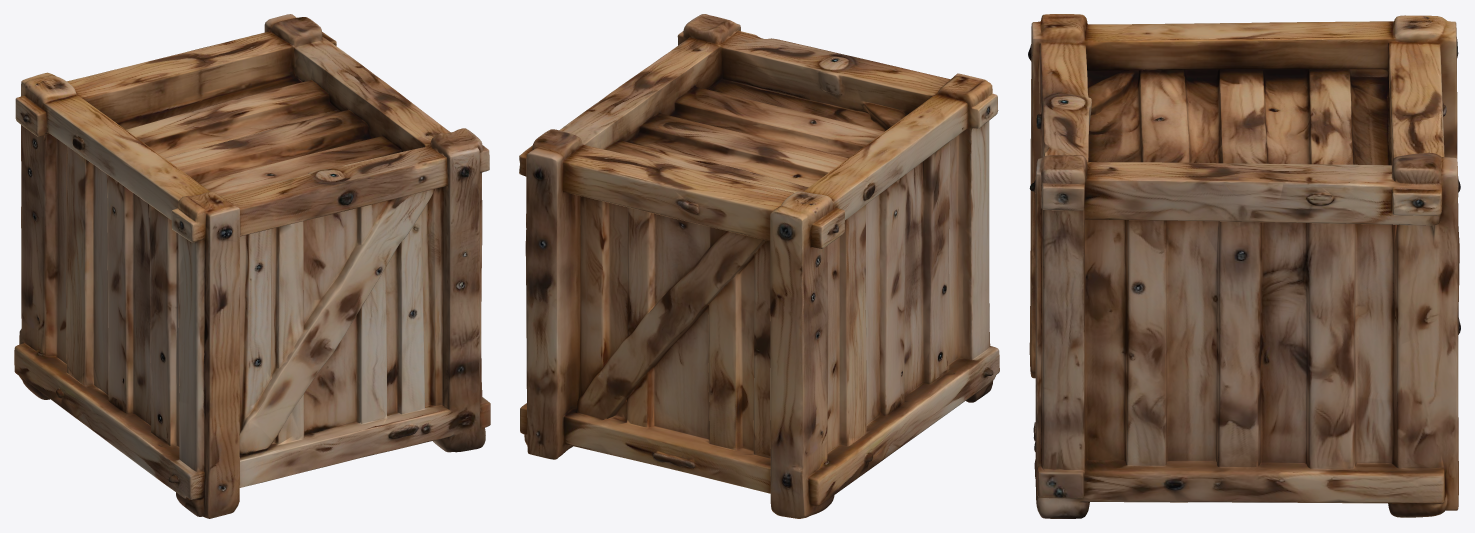
Rendered from prop-crate.glb.
3 views of the same model, side by side, from view 1: azimuth 30°, elevation 25°; view 2: azimuth 150°, elevation 25°; view 3: azimuth 270°, elevation 25° (orthographic). The views are drawn at different scales.
Visible parts, largest first — view 1: tripo_node_daaa6933-cfa2-40c0-a667-3388dd79ee52; view 2: tripo_node_daaa6933-cfa2-40c0-a667-3388dd79ee52; view 3: tripo_node_daaa6933-cfa2-40c0-a667-3388dd79ee52.
Boxes of the visible parts, bbox=[...] form: tripo_node_daaa6933-cfa2-40c0-a667-3388dd79ee52: bbox=[14, 14, 490, 518]; tripo_node_daaa6933-cfa2-40c0-a667-3388dd79ee52: bbox=[519, 14, 999, 518]; tripo_node_daaa6933-cfa2-40c0-a667-3388dd79ee52: bbox=[1028, 14, 1460, 518].
Bounding box in the file's own units: 1.06 × 1 × 1.12.
Materials: 1 (1 with a texture image).
